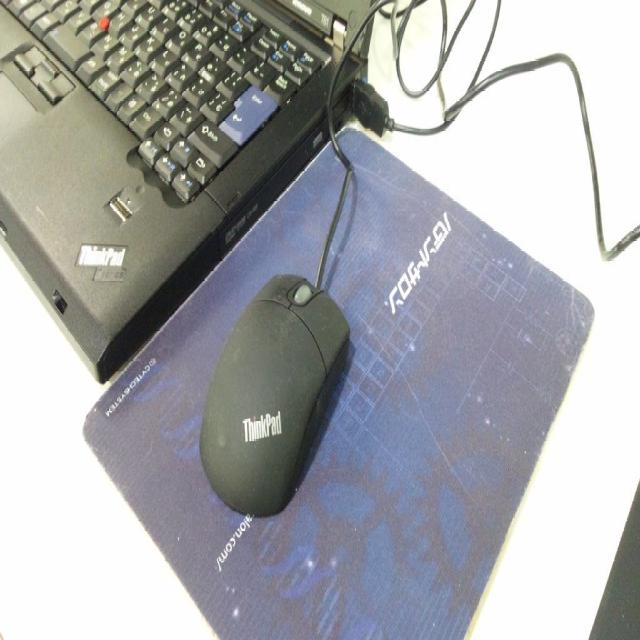Computer-mouse: (198, 271, 349, 513)
